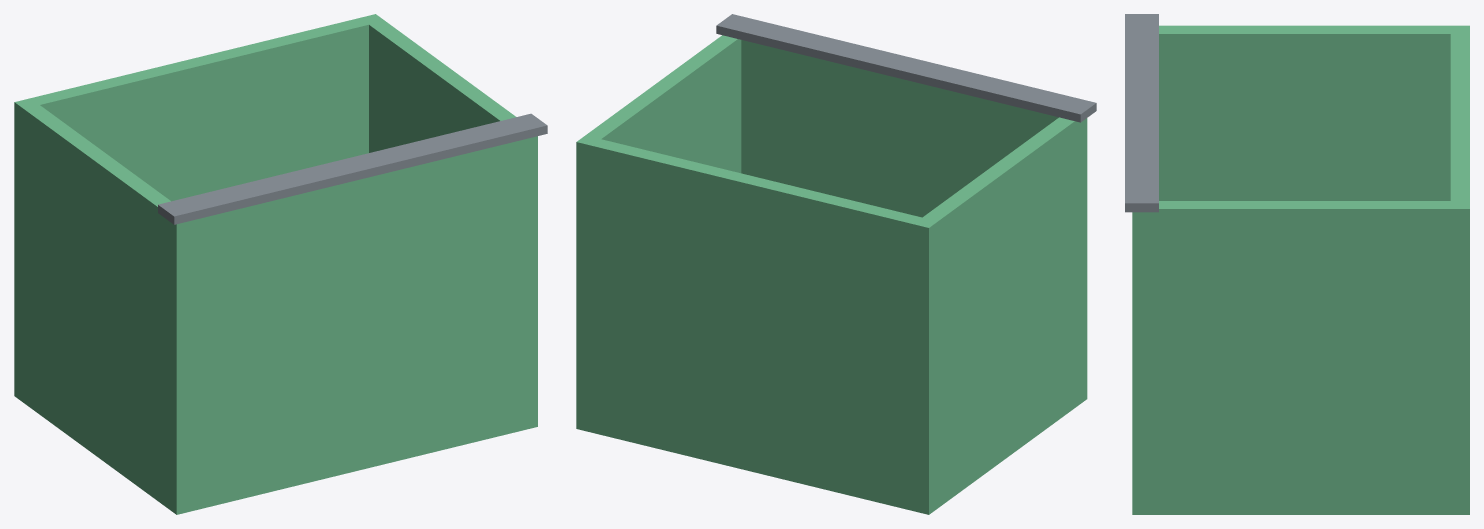
File: contenedor_vidrio.glb
The picture shows the model from 3 angles, left to right: view 1: azimuth 30°, elevation 25°; view 2: azimuth 150°, elevation 25°; view 3: azimuth 270°, elevation 25°; orthographic projection. The views are drawn at different scales.
Visible parts, largest first — view 1: pared_frontal, pared_izq, pared_trasera, pared_der, borde_superior, base; view 2: pared_trasera, pared_izq, pared_frontal, pared_der, borde_superior, base; view 3: pared_der, pared_izq, pared_trasera, borde_superior, pared_frontal, base.
Boxes of the visible parts, x1,y1,x2,y2 form: pared_frontal: (167,136,537,514); pared_izq: (23,105,170,505); pared_trasera: (14,14,384,401); pared_der: (369,21,516,152); borde_superior: (158,113,547,224); base: (14,380,537,514); pared_trasera: (576,135,937,514); pared_izq: (922,117,1078,507); pared_frontal: (741,40,1087,405); pared_der: (586,35,741,173); borde_superior: (716,14,1096,122); base: (576,383,1087,514); pared_der: (1151,201,1450,514); pared_izq: (1159,25,1450,200); pared_trasera: (1450,25,1469,514); borde_superior: (1125,14,1158,212); pared_frontal: (1132,212,1151,514); base: (1132,497,1469,514).
Bounding box in the file's own units: 0.93 × 0.72 × 0.715.
